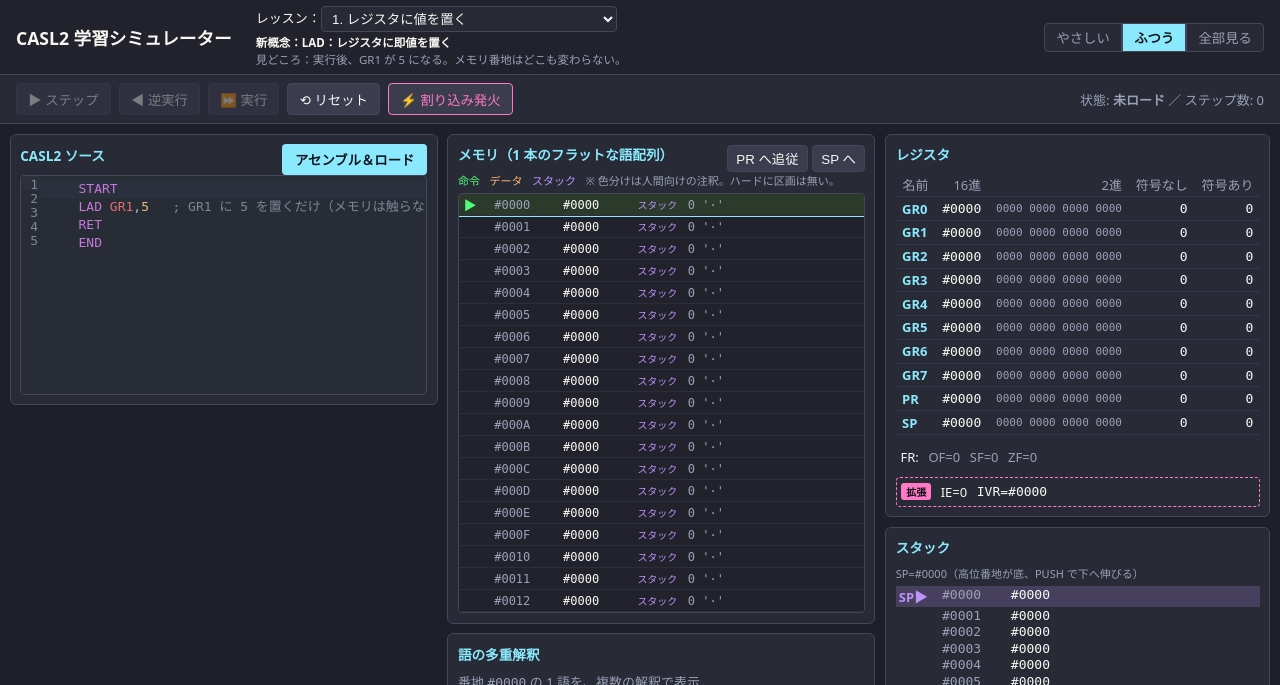
Scenario: App 統合 › アセンブル→実行で総和 15 がレジスタに現れる
// 「繰り返す（1〜5 の総和）」レッスンを選ぶ
Select "5. 繰り返す（1〜5 の総和）" in the dropdown labelled "レッスン：": (469, 19) [321, 6, 617, 32]
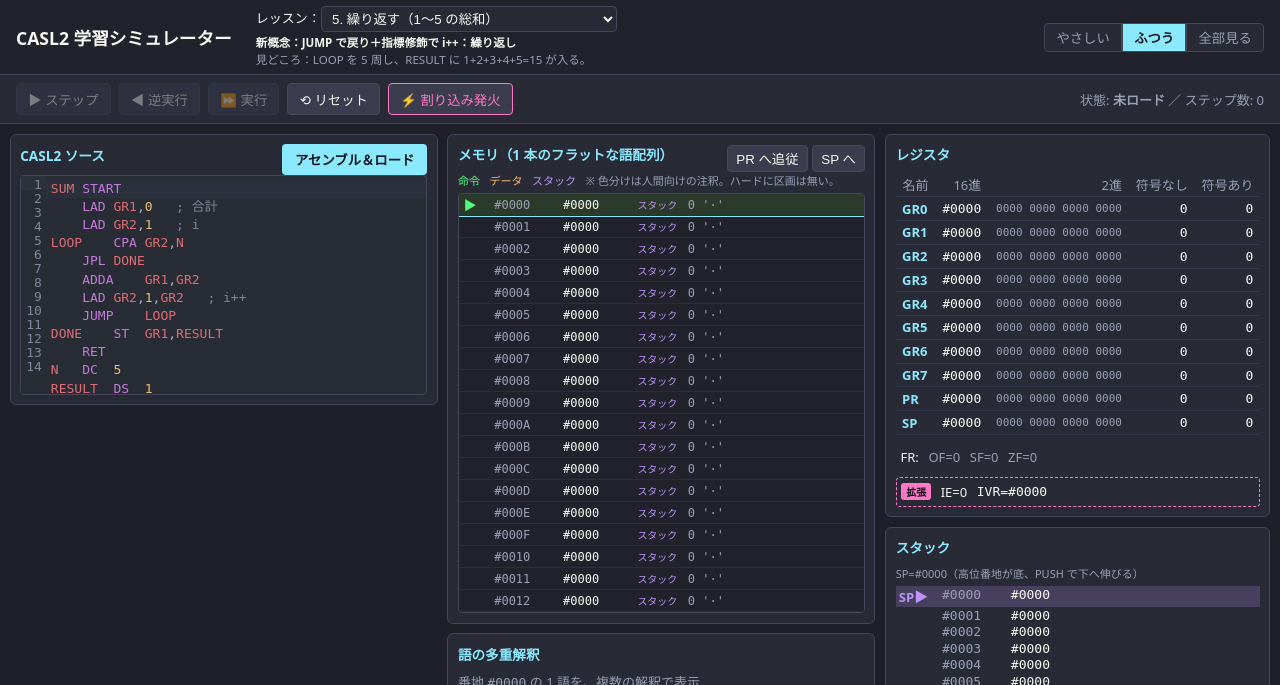
Click the button "アセンブル＆ロード": (355, 160) [282, 144, 427, 175]
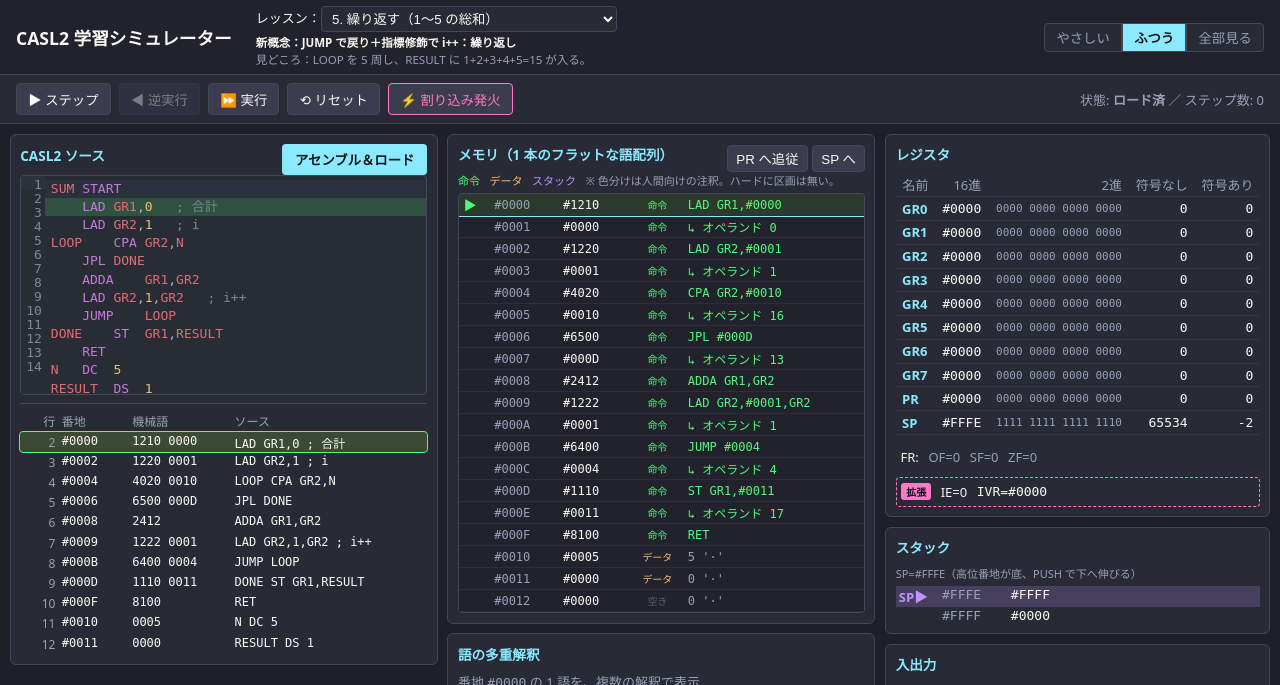
Expected: the text "ロード済" is shown, [1113, 91, 1165, 109]
Click the button "⏩ 実行": (244, 99) [208, 83, 280, 115]
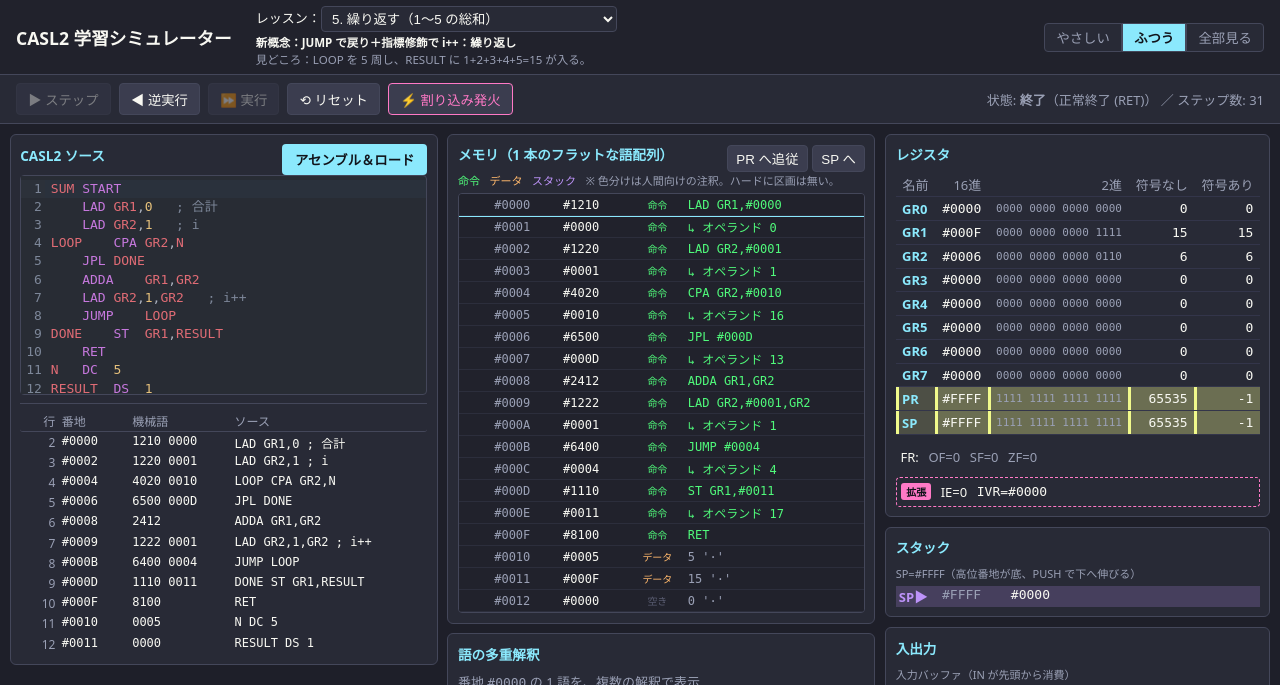
Expected: the text "#000F" is shown, [935, 220, 988, 244]
